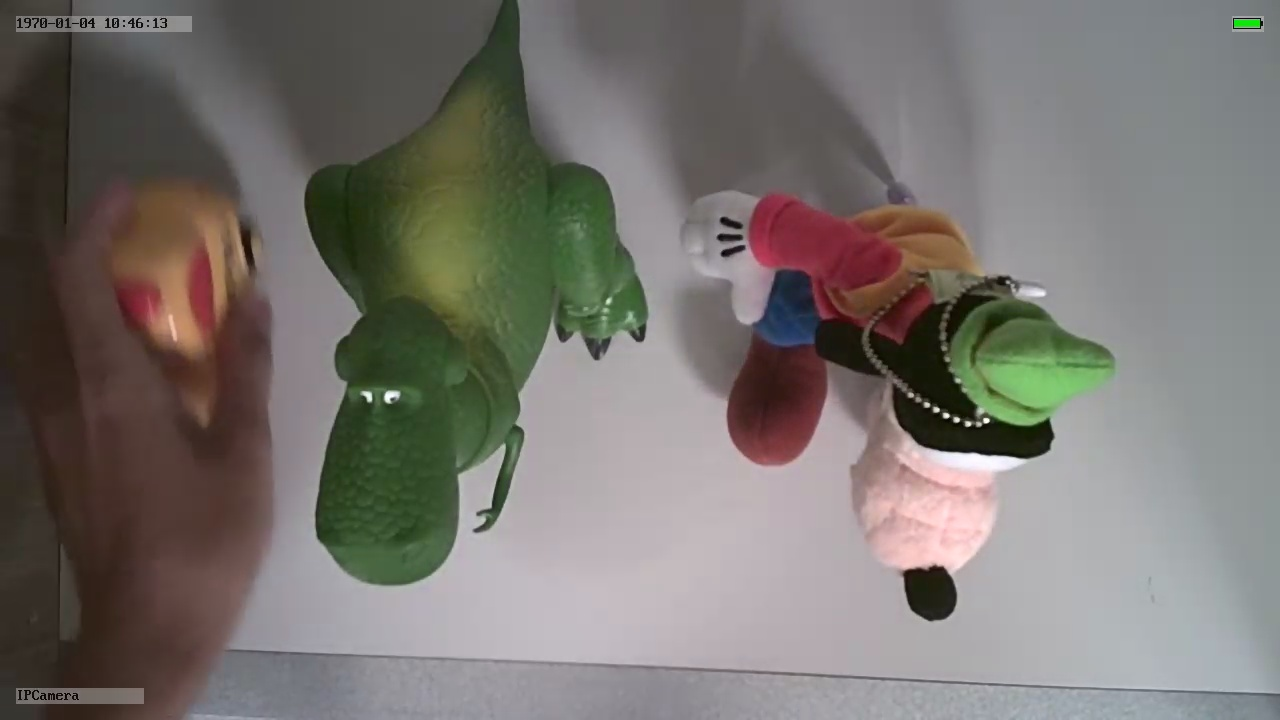goofy: (675, 182, 1123, 629)
rex: (303, 73, 652, 585)
